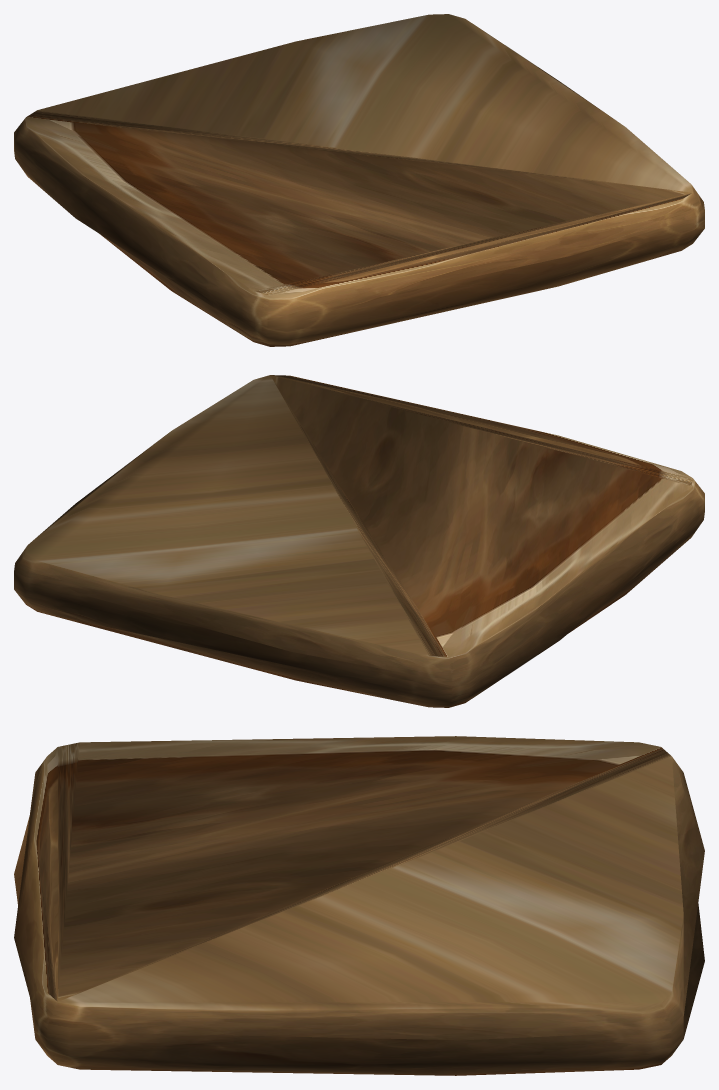
Rendered from Stone.fbx.
The picture shows the model from 3 angles, top to bottom: view 1: azimuth 30°, elevation 25°; view 2: azimuth 150°, elevation 25°; view 3: azimuth 270°, elevation 25°; orthographic projection. The views are drawn at different scales.
Parts seen in each view (by area): view 1: Stone; view 2: Stone; view 3: Stone.
Part boxes in pixels (<box>): Stone: <box>14,14,704,346</box>; Stone: <box>14,375,704,707</box>; Stone: <box>14,736,704,1075</box>.
Bounding box in the file's own units: 120 × 12.55 × 120.
1 material, 1 textured.
